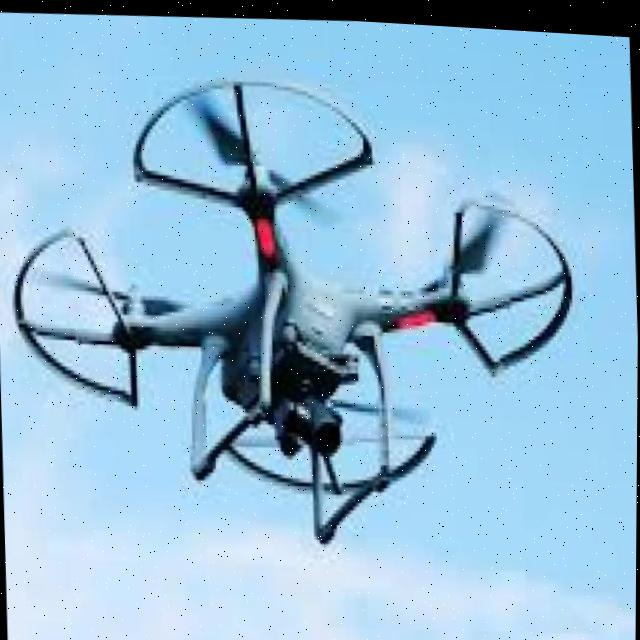drones: (0, 16, 631, 616)
